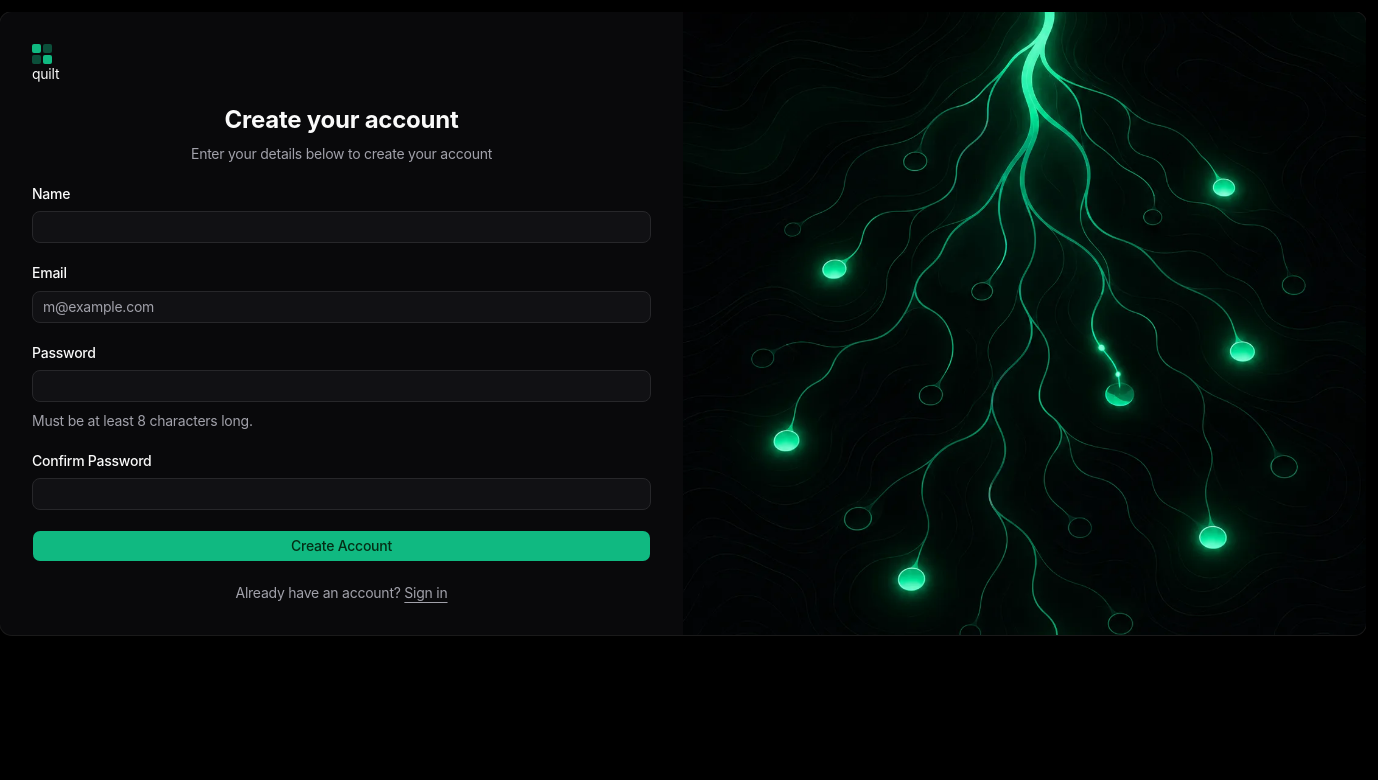
SignupForm › rejects mismatched passwords
In the field labelled "Name": (342,227) x1=32 y1=211 x2=651 y2=243, type "Ada Lovelace"
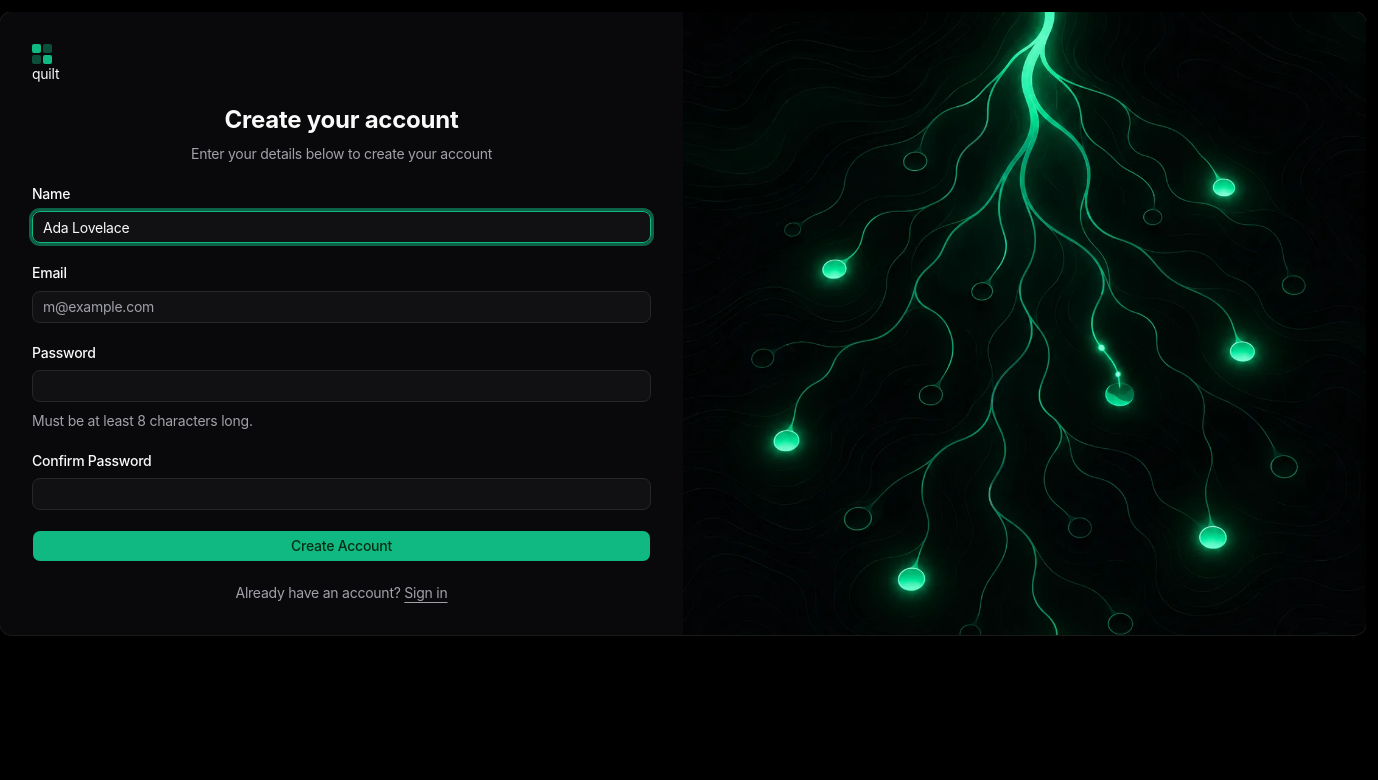
In the field labelled "Email": (342,306) x1=32 y1=290 x2=651 y2=322, type "ada@example.com"
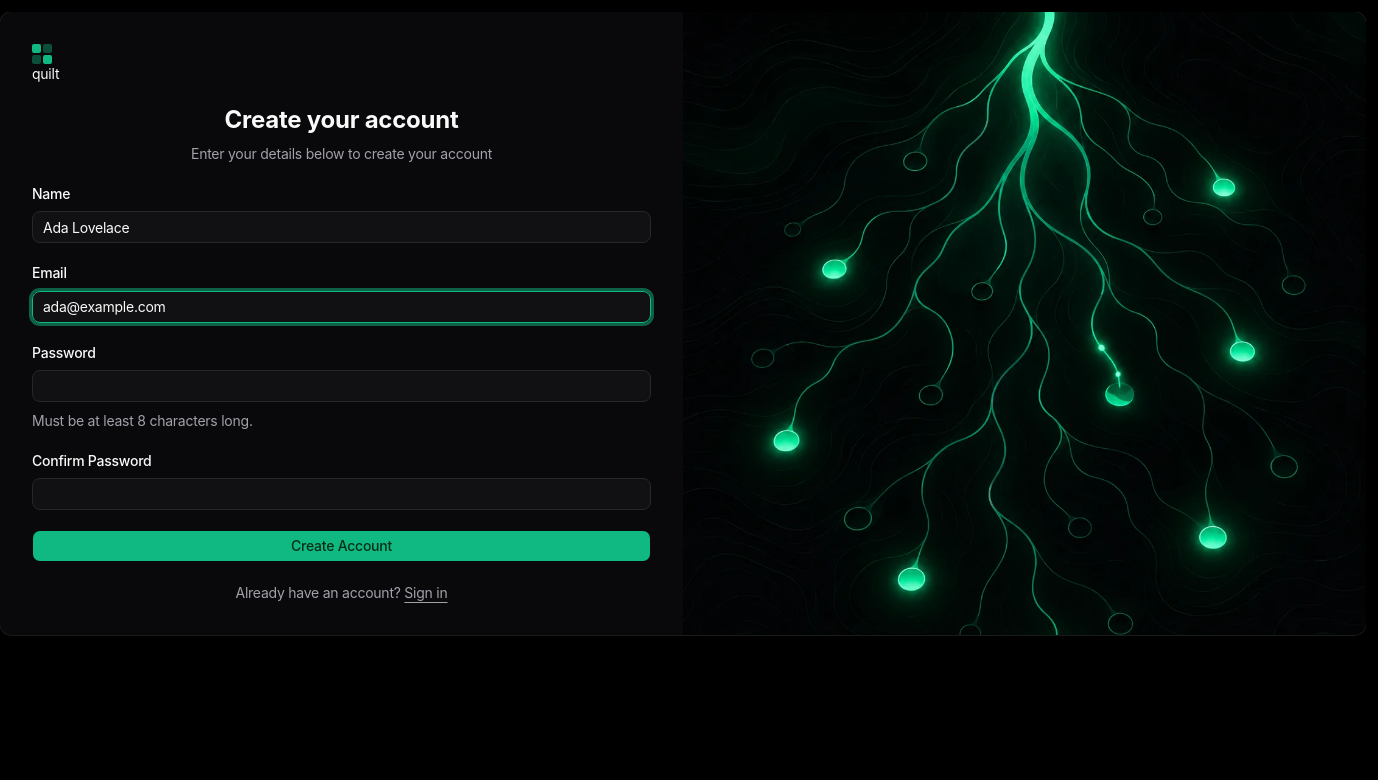
In the password field labelled "Password": (342,386) x1=32 y1=370 x2=651 y2=402, type "correct-horse"
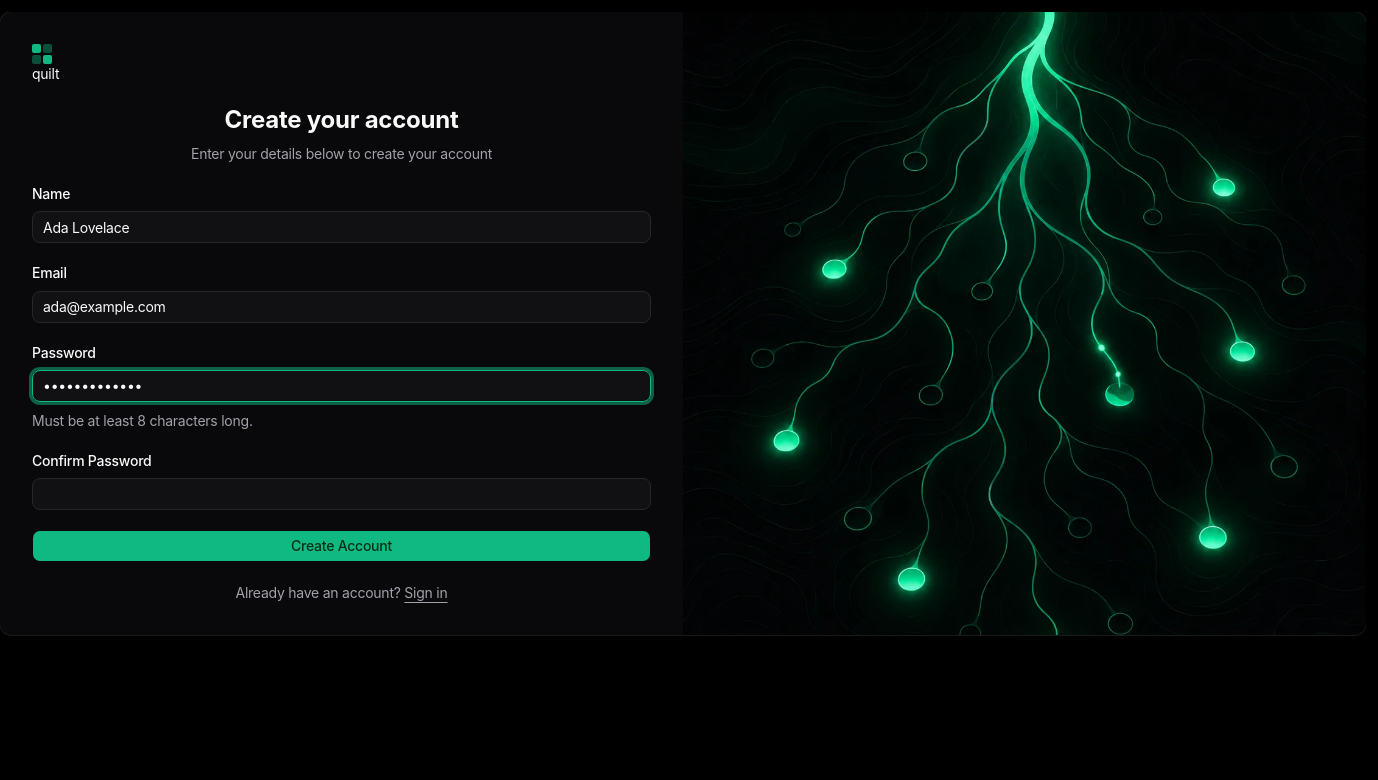
In the password field labelled "Confirm Password": (342,494) x1=32 y1=478 x2=651 y2=510, type "battery-staple"
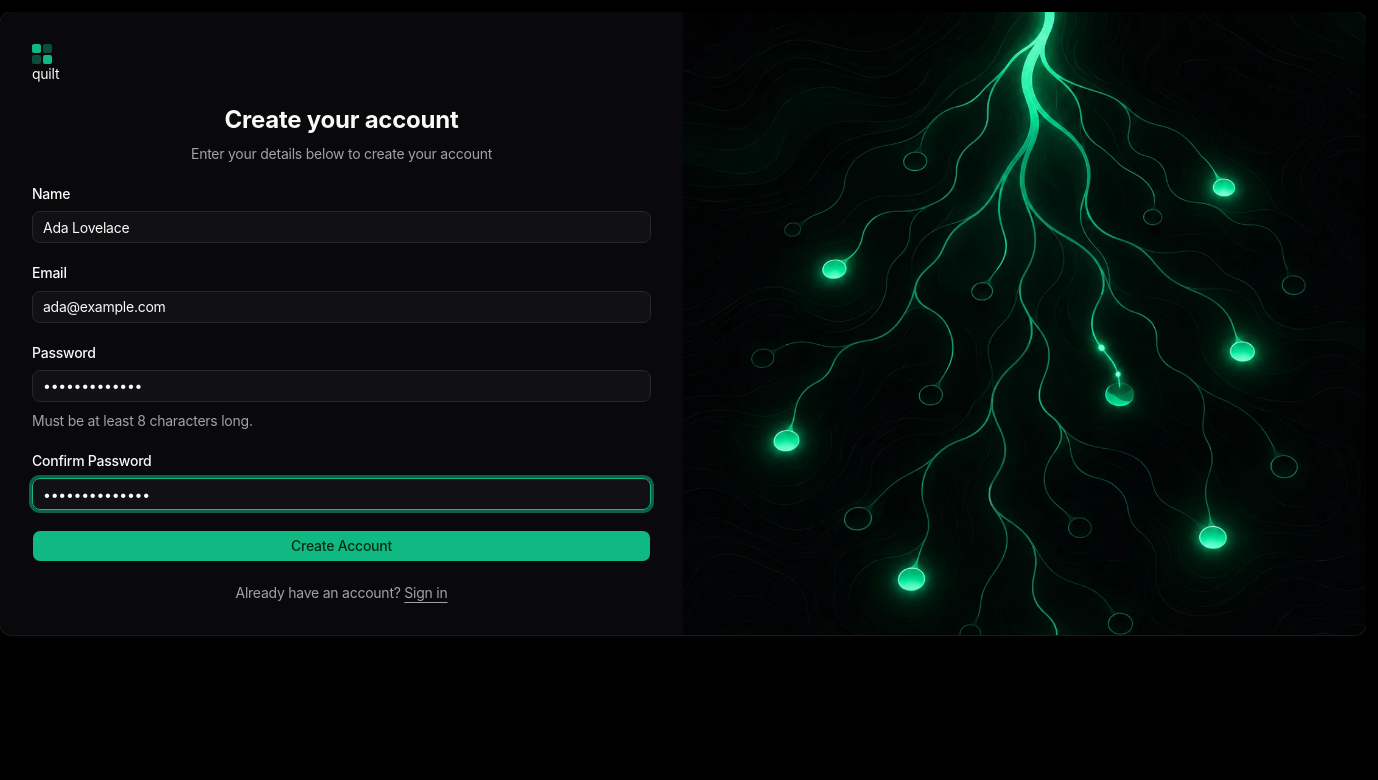
Click the button "Create Account": (342,546) x1=32 y1=530 x2=651 y2=562
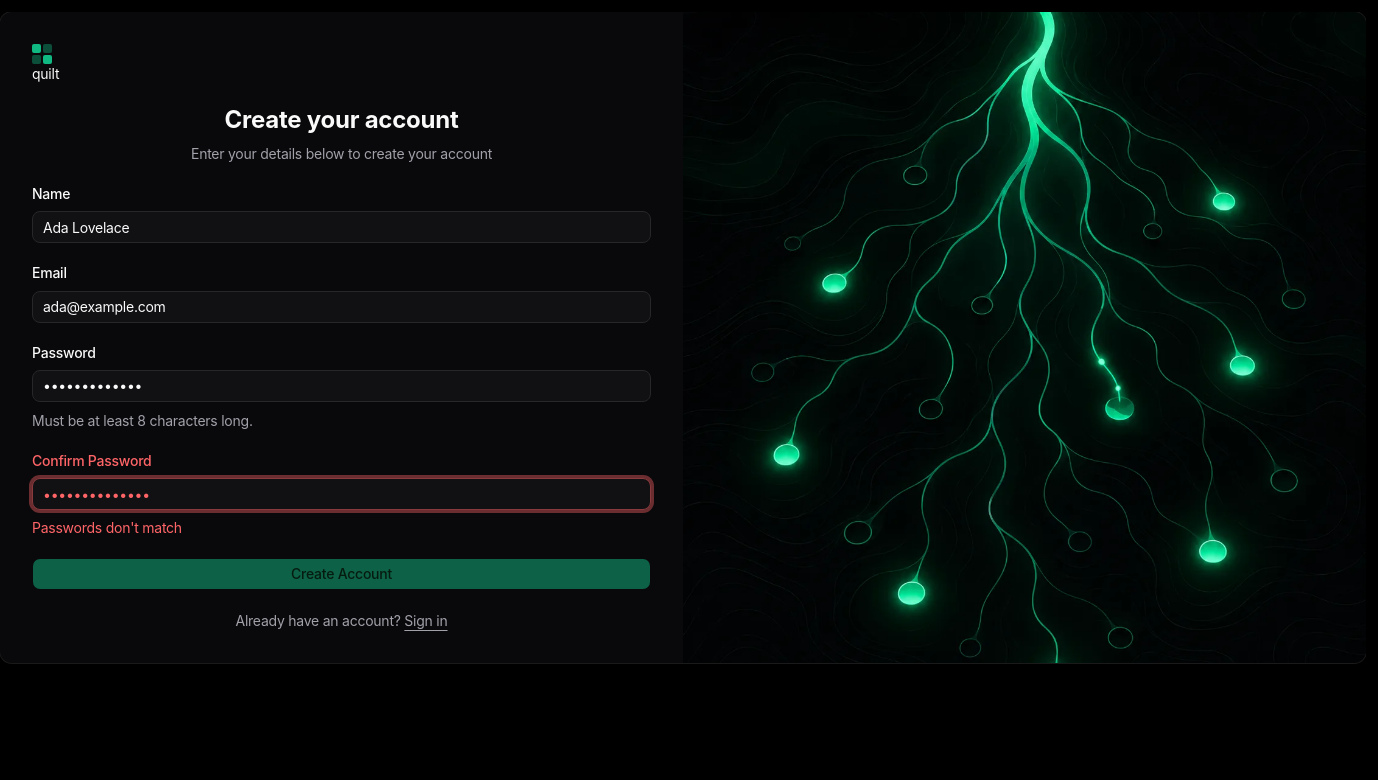
Expected: the text "Passwords don't match" is shown, x1=32 y1=519 x2=182 y2=536
